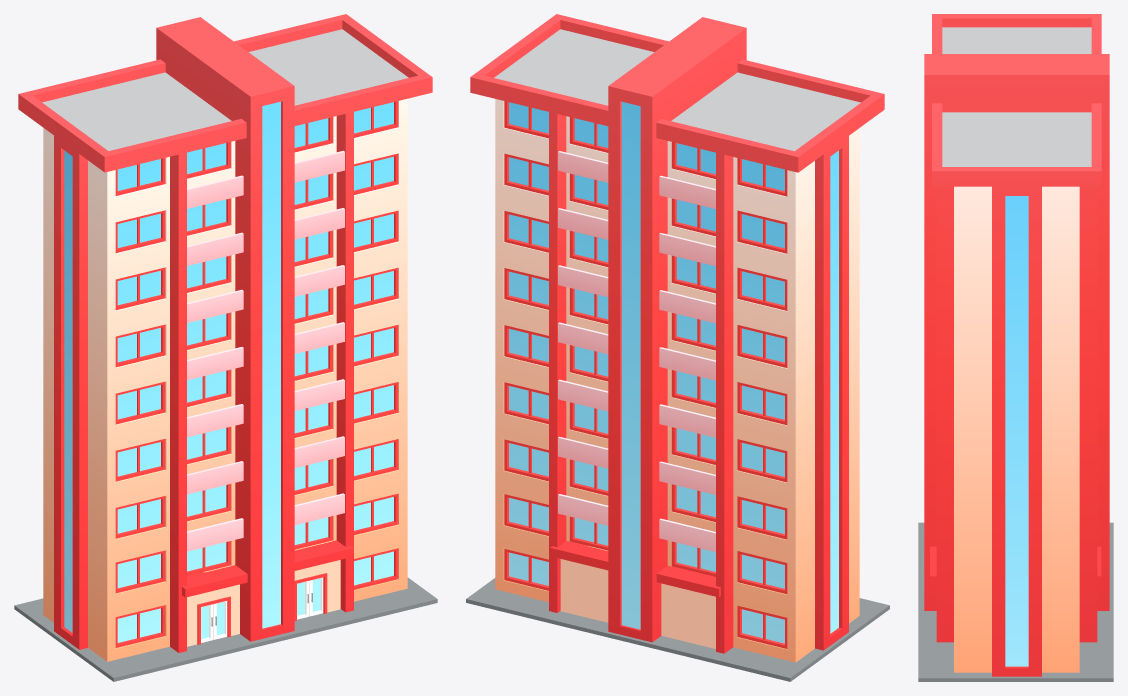
The model's file is Building_Living_51.glb.
The picture shows the model from 3 angles, left to right: view 1: azimuth 30°, elevation 25°; view 2: azimuth 150°, elevation 25°; view 3: azimuth 270°, elevation 25°; orthographic projection.
Parts seen in each view (by area): view 1: Building_Living_51; view 2: Building_Living_51; view 3: Building_Living_51.
Boxes of the visible parts, x1,y1,x2,y2 form: Building_Living_51: [14, 14, 437, 681]; Building_Living_51: [466, 14, 889, 681]; Building_Living_51: [918, 14, 1113, 681].
Bounding box in the file's own units: 19.91 × 31.86 × 10.45.
1 material, 1 textured.
